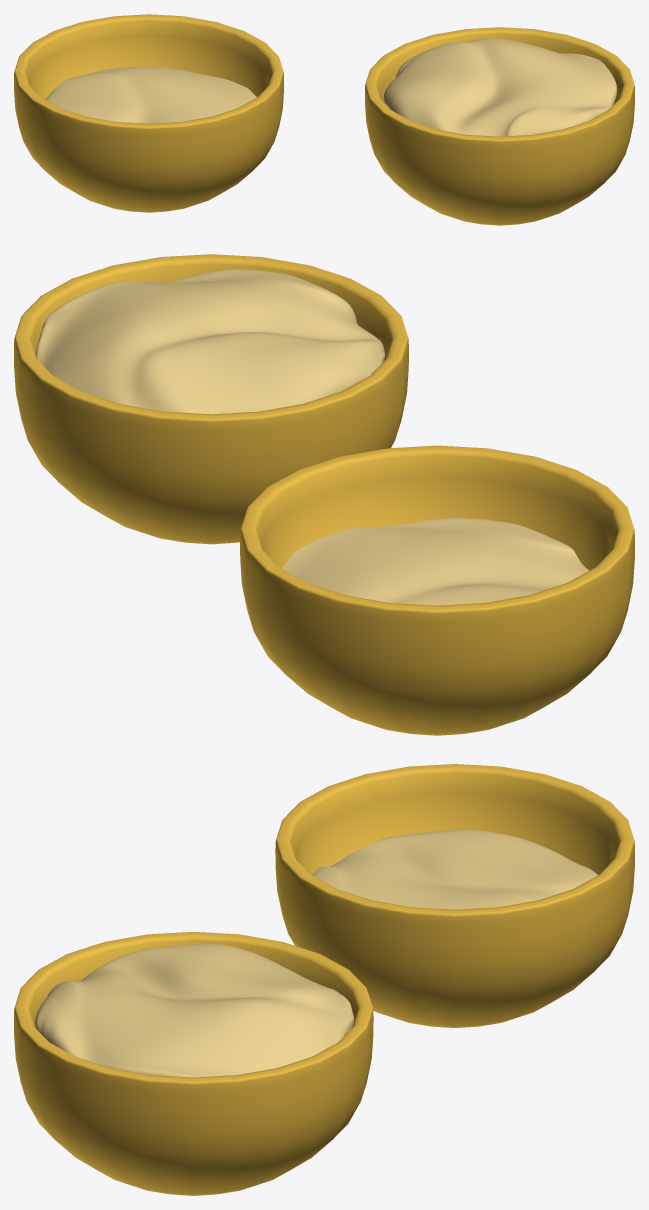
File: mixing lvl.glb
3 views of the same model, one above another, from view 1: azimuth 30°, elevation 25°; view 2: azimuth 150°, elevation 25°; view 3: azimuth 270°, elevation 25° (orthographic). The views are drawn at different scales.
Visible parts, largest first — view 1: mixing bowl-full, mixing bowl-half; view 2: mixing bowl-half, mixing bowl-full; view 3: mixing bowl-full, mixing bowl-half.
Boxes of the visible parts, x1,y1,x2,y2 form: mixing bowl-full: (365,27,634,225); mixing bowl-half: (14,14,283,212); mixing bowl-half: (240,445,634,735); mixing bowl-full: (14,254,408,544); mixing bowl-full: (14,932,373,1195); mixing bowl-half: (275,764,634,1027).
Bounding box in the file's own units: 0.8683 × 0.2267 × 0.7208.
